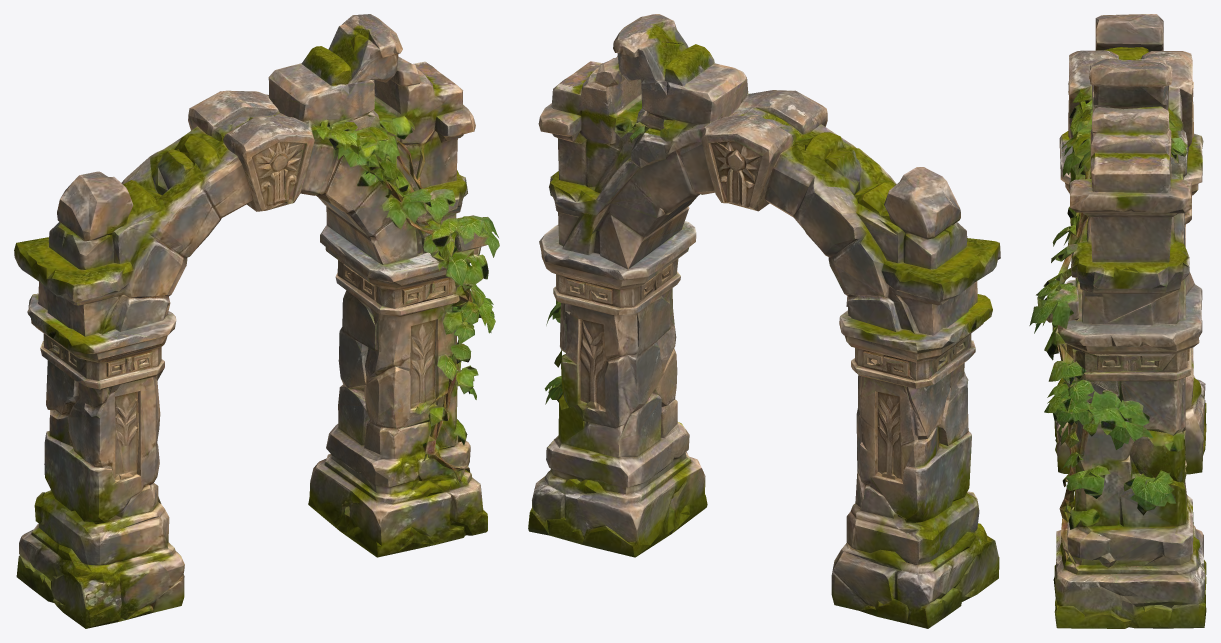
Rendered from arch.glb.
3 views of the same model, side by side, from view 1: azimuth 30°, elevation 25°; view 2: azimuth 150°, elevation 25°; view 3: azimuth 270°, elevation 25° (orthographic). The views are drawn at different scales.
Visible parts, largest first — view 1: Mesh_0; view 2: Mesh_0; view 3: Mesh_0.
Boxes of the visible parts, bbox=[...] form: Mesh_0: bbox=[14, 14, 499, 628]; Mesh_0: bbox=[528, 14, 1000, 628]; Mesh_0: bbox=[1029, 14, 1206, 628].
Size of the model in its own units: 1.72 by 1.9 by 0.5809.
Materials: 1 (1 with a texture image).
